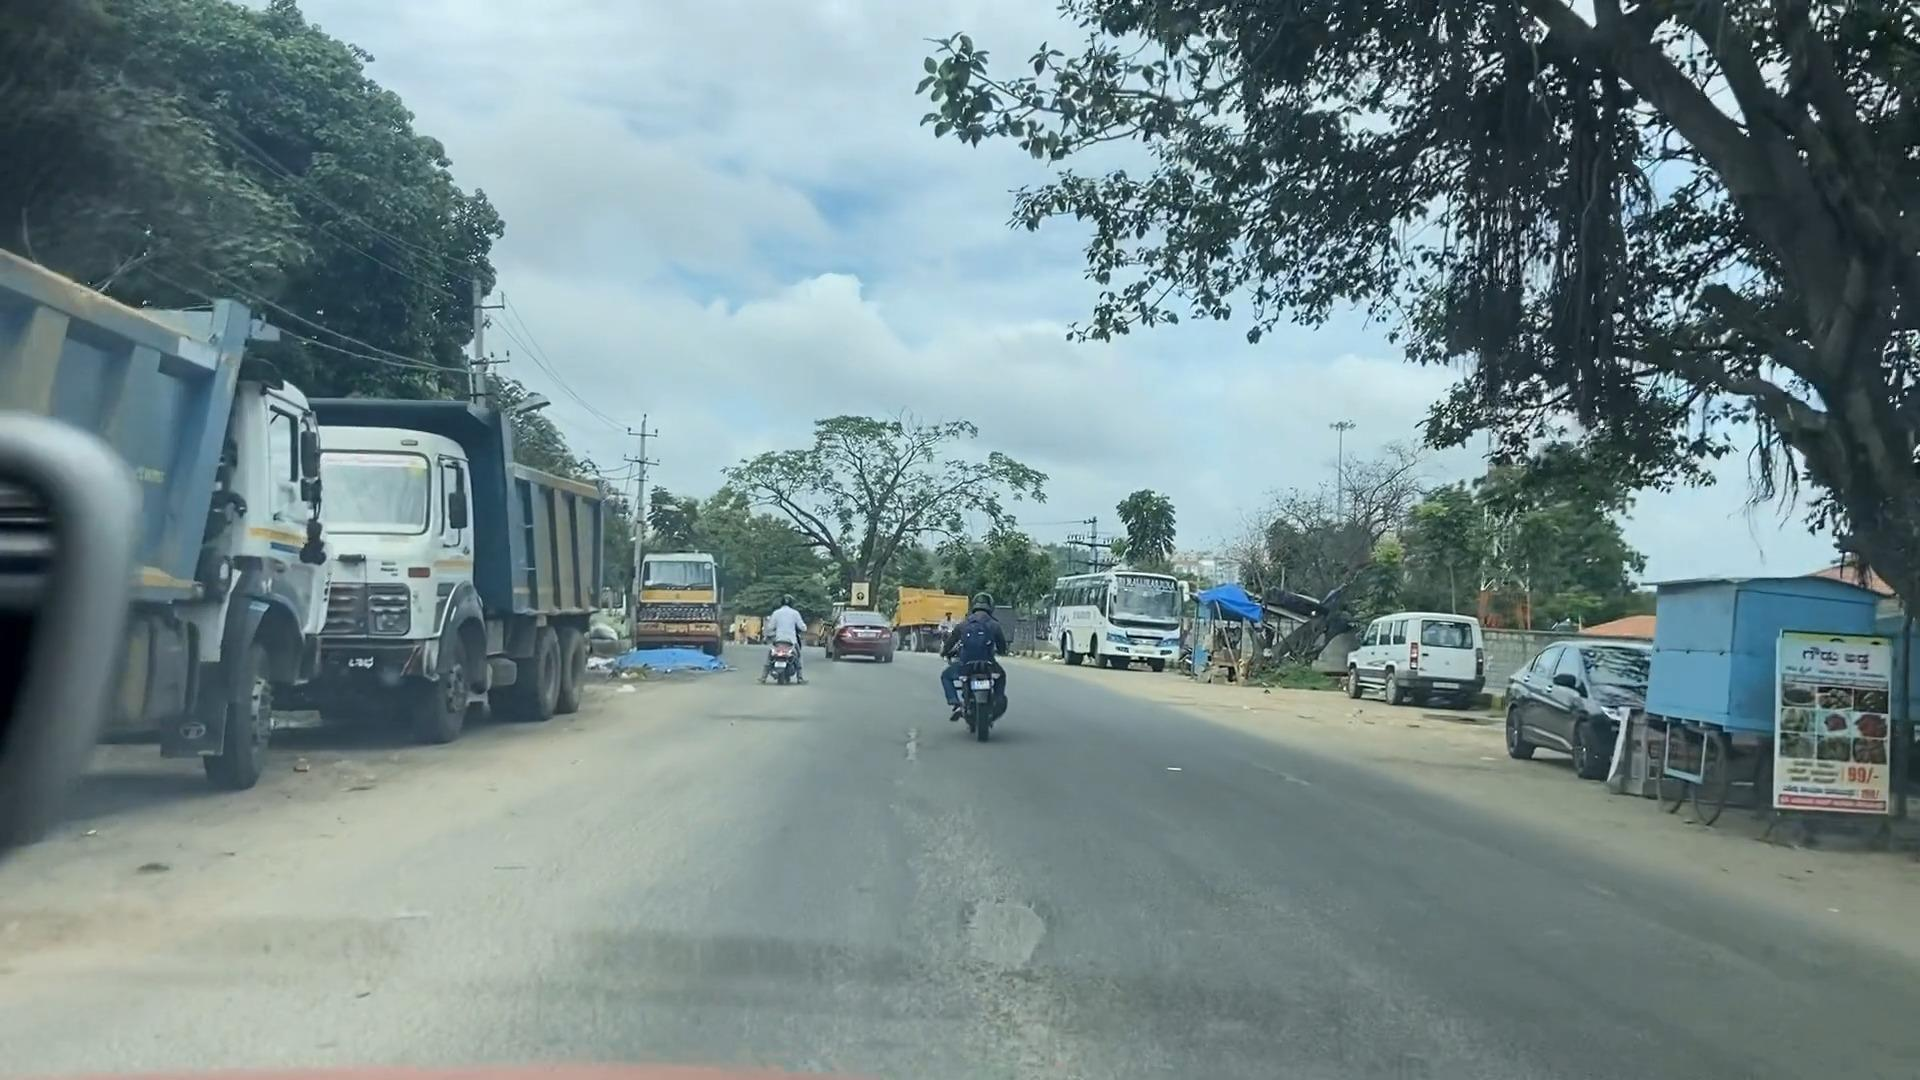HMV: (0, 232, 339, 890), (318, 385, 628, 732), (1042, 549, 1201, 692), (618, 506, 731, 667)
LMV: (940, 508, 1089, 791), (1328, 521, 1493, 723), (731, 554, 819, 702), (811, 559, 918, 671)
RoadDamages: (947, 868, 1060, 994), (869, 688, 947, 798)
